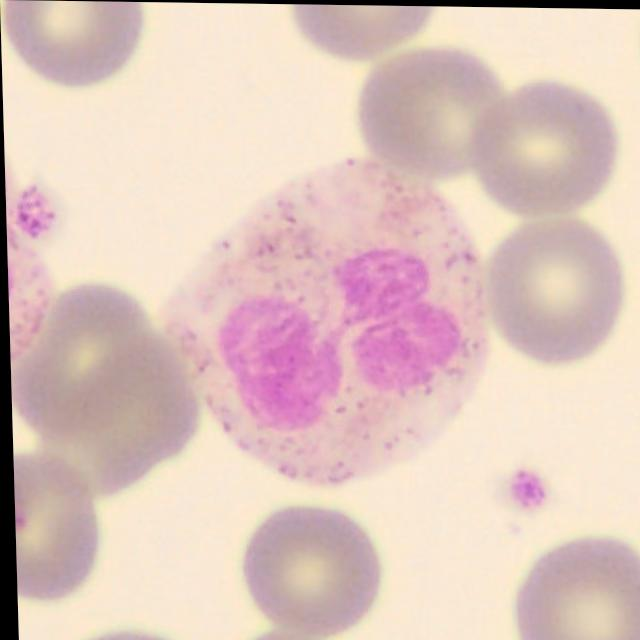Neutrofilo segmentado: (155, 157, 487, 488)
